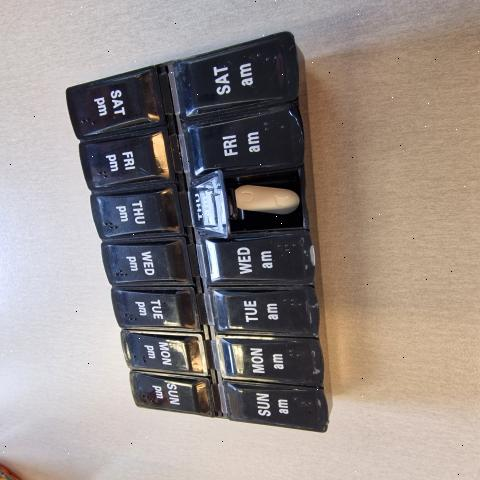Open: (207, 169, 306, 236)
